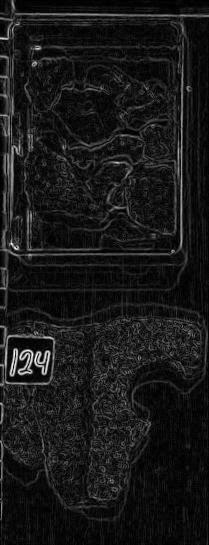hplug: (123, 357, 194, 428)
